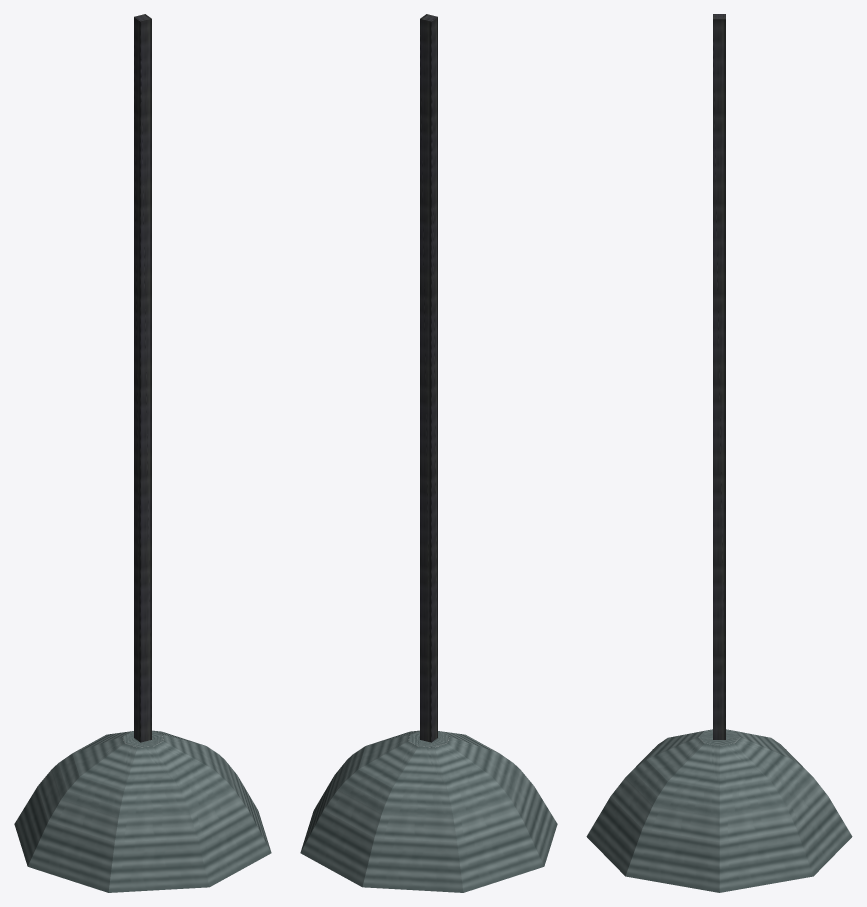
Rendered from industrial_lamp.fbx.
3 views of the same model, side by side, from view 1: azimuth 30°, elevation 25°; view 2: azimuth 150°, elevation 25°; view 3: azimuth 270°, elevation 25° (orthographic).
Parts seen in each view (by area): view 1: Cylinder, Cube; view 2: Cylinder, Cube; view 3: Cylinder, Cube.
Part boxes in pixels (bbox=[...]): Cylinder: bbox=[14, 730, 271, 892]; Cube: bbox=[134, 14, 151, 742]; Cylinder: bbox=[300, 730, 557, 892]; Cube: bbox=[420, 14, 437, 742]; Cylinder: bbox=[586, 729, 852, 892]; Cube: bbox=[713, 14, 725, 739].
Size of the model in its own units: 200 by 689 by 200.
Materials: 3 (3 with a texture image).
